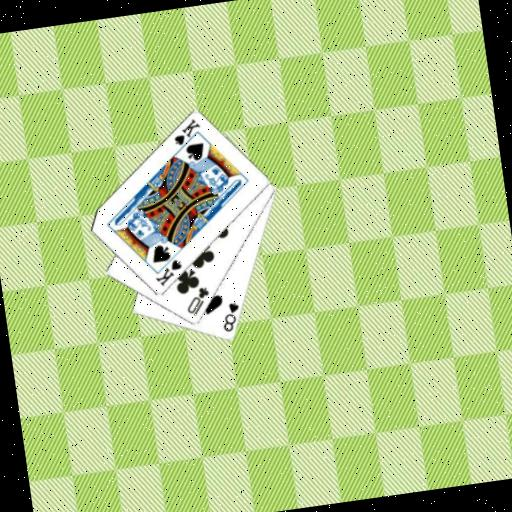10C: (181, 283, 214, 319)
8S: (217, 299, 244, 334)
KS: (168, 116, 205, 154), (151, 256, 187, 289)
